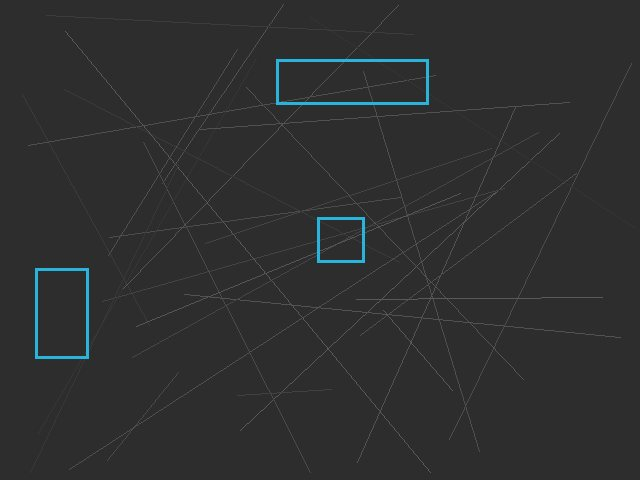D10: (276, 59, 428, 104), (35, 268, 88, 358), (317, 217, 364, 262)
